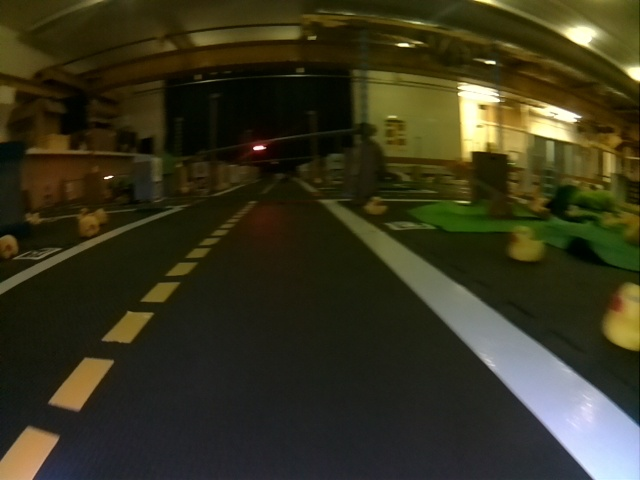Duckie: (603, 282, 636, 349), (508, 226, 545, 261), (0, 234, 18, 258), (363, 197, 386, 215), (80, 216, 99, 236)
QR code: (19, 245, 61, 260), (388, 221, 435, 231)
